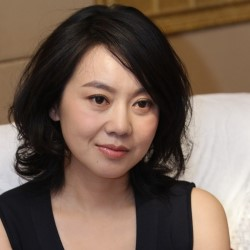unmask: (52, 43, 171, 181)
